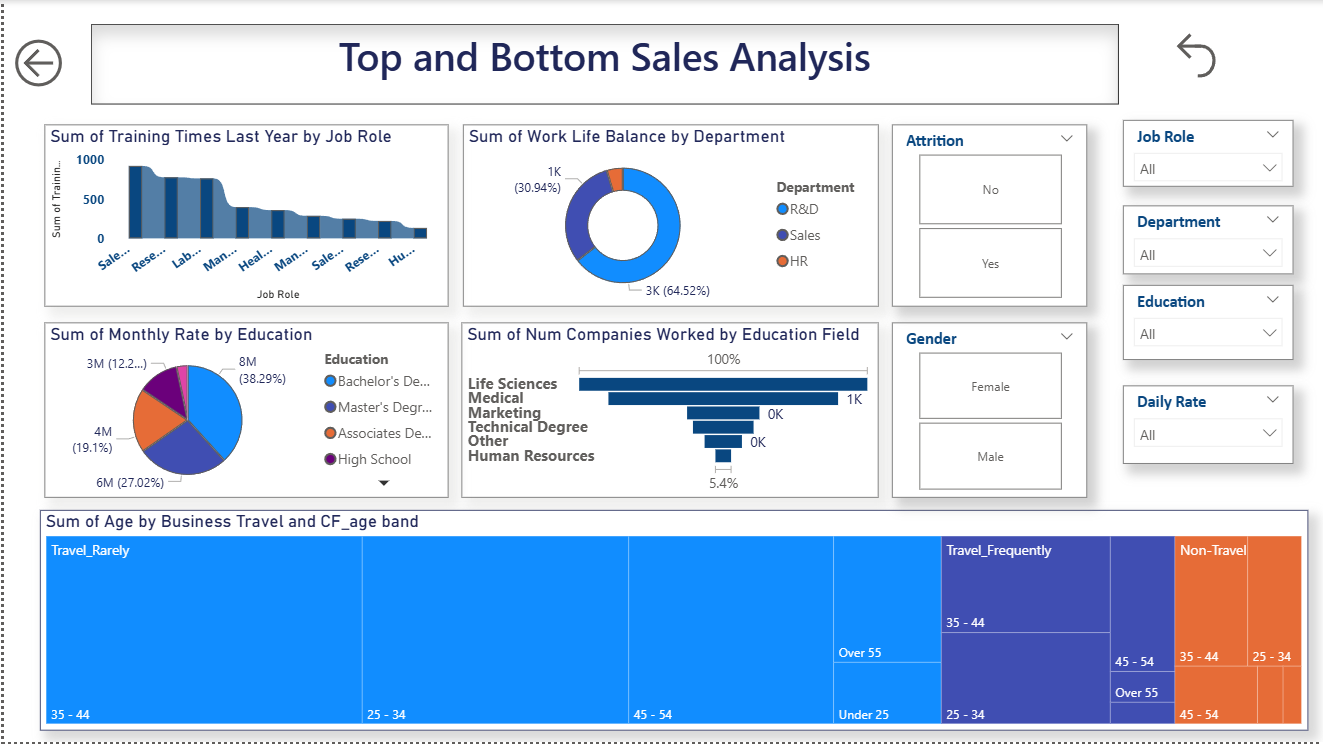

What the dashboard file says about the page in this screenshot:
{"tool":"powerbi","page":{"name":"Top and Bottom sales Analysis","canvas":[1280,720],"ordinal":3},"visuals":[{"type":"textbox","box":[84.2,22.7,997.4,77.7],"z":0},{"type":"funnel","fields":{"Category":["Table1.Education Field"],"Y":["Sum(Table1.Num Companies Worked)"]},"box":[443.7,312.5,404.8,170],"z":1000},{"type":"donutChart","fields":{"Category":["Table1.Department"],"Y":["Sum(Table1.Work Life Balance)"]},"box":[445.3,121.4,403.2,176.5],"z":2000},{"type":"ribbonChart","fields":{"Category":["Table1.Job Role"],"Y":["Sum(Table1.Training Times Last Year)"]},"box":[38.9,121.4,391.9,176.5],"z":3000},{"type":"pieChart","fields":{"Category":["Table1.Education"],"Y":["Sum(Table1.Monthly Rate)"]},"box":[38.9,312.5,391.9,170],"z":4000},{"type":"treemap","fields":{"Group":["Table1.Business Travel","Table1.Department","Table1.emp no","Table1.Gender","Table1.Job Role","Table1.Marital Status","Table1.Over Time","Table1.Education","Table1.CF_attrition label"],"Values":["Sum(Table1.Age)"],"Details":["Table1.CF_age band"]},"box":[35.6,495.5,1230.6,213.7],"z":6000},{"type":"slicer","fields":{"Values":["Table1.Department"]},"box":[1086.5,199.2,165.2,66.4],"z":7000},{"type":"slicer","fields":{"Values":["Table1.Education"]},"box":[1086.5,276.9,165.2,72.9],"z":8000},{"type":"slicer","fields":{"Values":["Table1.Job Role"]},"box":[1086.5,116.6,165.2,64.8],"z":9000},{"type":"slicer","fields":{"Values":["Table1.Daily Rate"]},"box":[1086.5,374,165.2,76.1],"z":10000},{"type":"slicer","fields":{"Values":["Table1.Gender"]},"box":[861.4,312.5,189.4,170],"z":11000},{"type":"slicer","fields":{"Values":["Table1.Attrition"]},"box":[861.4,121.4,189.4,176.5],"z":12000},{"type":"actionButton","box":[4.9,32.4,68,58.3],"z":13000},{"type":"actionButton","box":[1130.2,25.9,77.7,55.1],"z":14000}]}

Visuals, with their boxes in screenshot pixels (x1, y1, x2, y2), scaled from the page's 1280x720 canvas onto the 1323x744 screenshot:
textbox: detection(87, 23, 1118, 104)
funnel - Table1.Education Field x Sum(Table1.Num Companies Worked): detection(459, 323, 877, 499)
donutChart - Table1.Department x Sum(Table1.Work Life Balance): detection(460, 125, 877, 308)
ribbonChart - Table1.Job Role x Sum(Table1.Training Times Last Year): detection(40, 125, 445, 308)
pieChart - Table1.Education x Sum(Table1.Monthly Rate): detection(40, 323, 445, 499)
treemap - Table1.Business Travel x Table1.Department: detection(37, 512, 1309, 733)
slicer - Table1.Department: detection(1123, 206, 1294, 274)
slicer - Table1.Education: detection(1123, 286, 1294, 361)
slicer - Table1.Job Role: detection(1123, 120, 1294, 187)
slicer - Table1.Daily Rate: detection(1123, 386, 1294, 465)
slicer - Table1.Gender: detection(890, 323, 1086, 499)
slicer - Table1.Attrition: detection(890, 125, 1086, 308)
actionButton: detection(5, 33, 75, 94)
actionButton: detection(1168, 27, 1248, 84)
